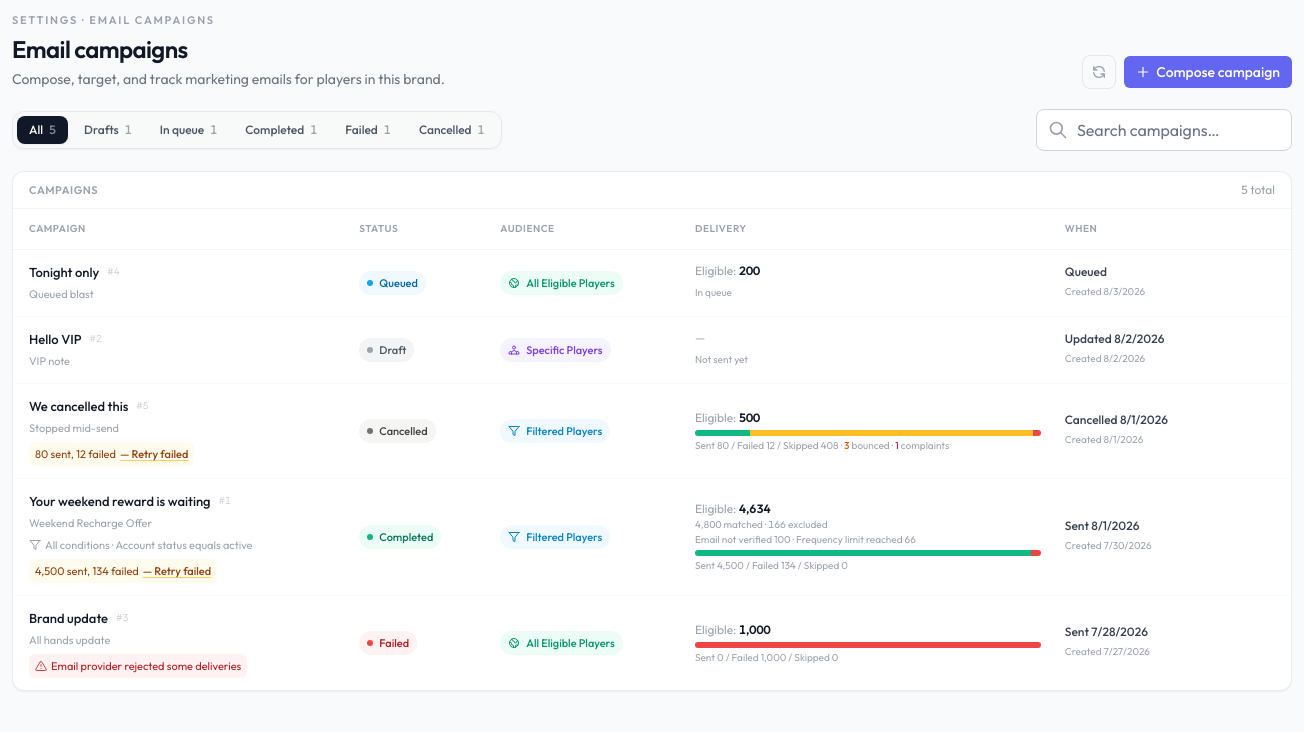
Test: EmailBroadcastsSettingsPage › searches campaigns by subject
Expected: the text "Your weekend reward is waiting" is shown, [29,491,211,511]
Type "vip" into the search field at point(1164, 130), box [1036,108,1292,150]
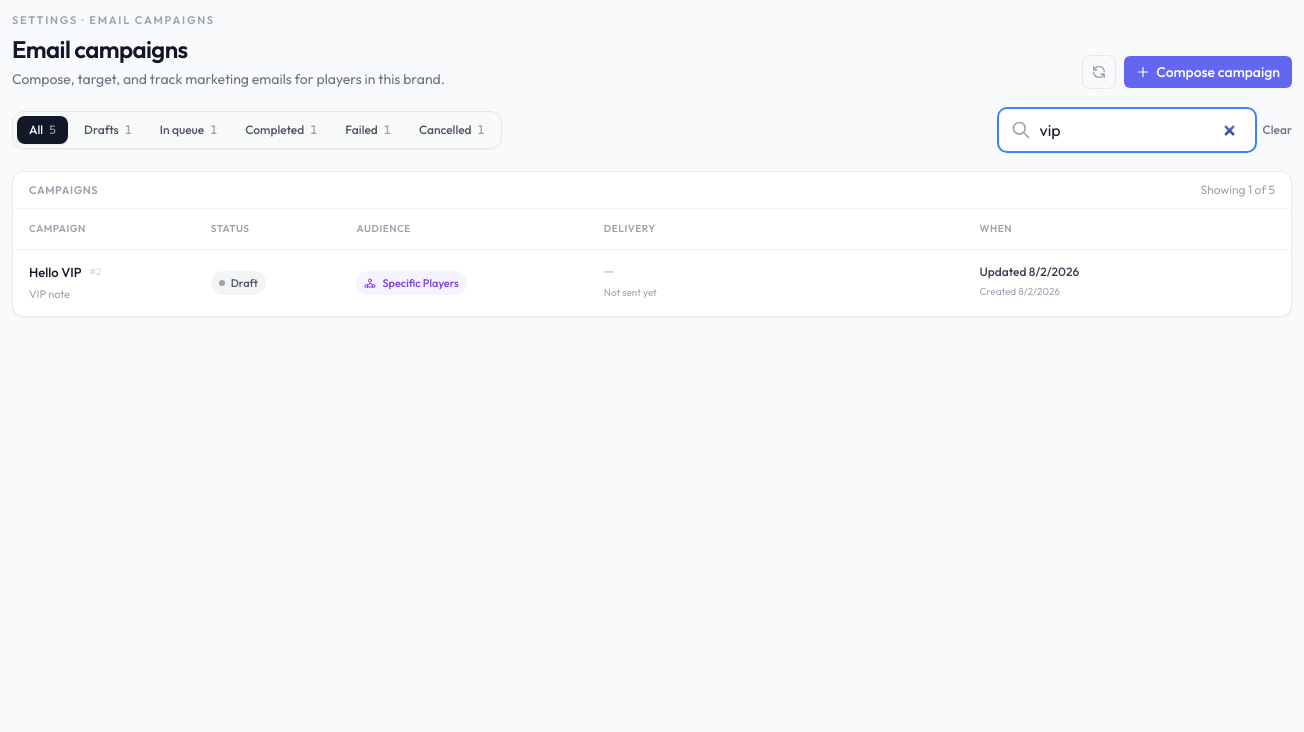
Expected: the text "Hello VIP" is shown, [29,262,82,282]
Expected: the text "Your weekend reward is waiting" is gone
Expected: the text "Brand update" is gone
